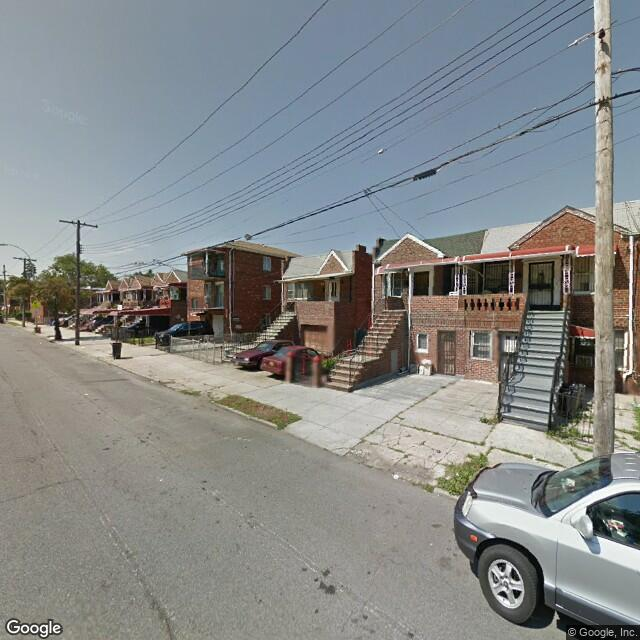litter: (388, 470, 401, 481), (530, 454, 540, 463), (428, 541, 437, 547), (79, 343, 86, 350), (81, 390, 89, 396), (148, 377, 155, 383), (36, 340, 42, 343)
